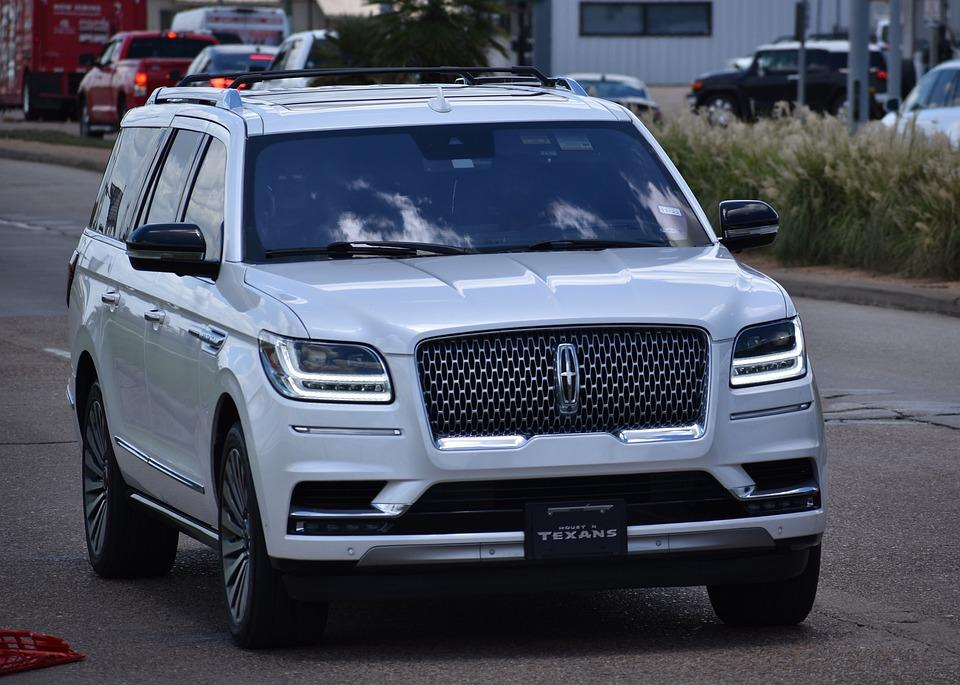lincoln: (546, 335, 589, 421)
